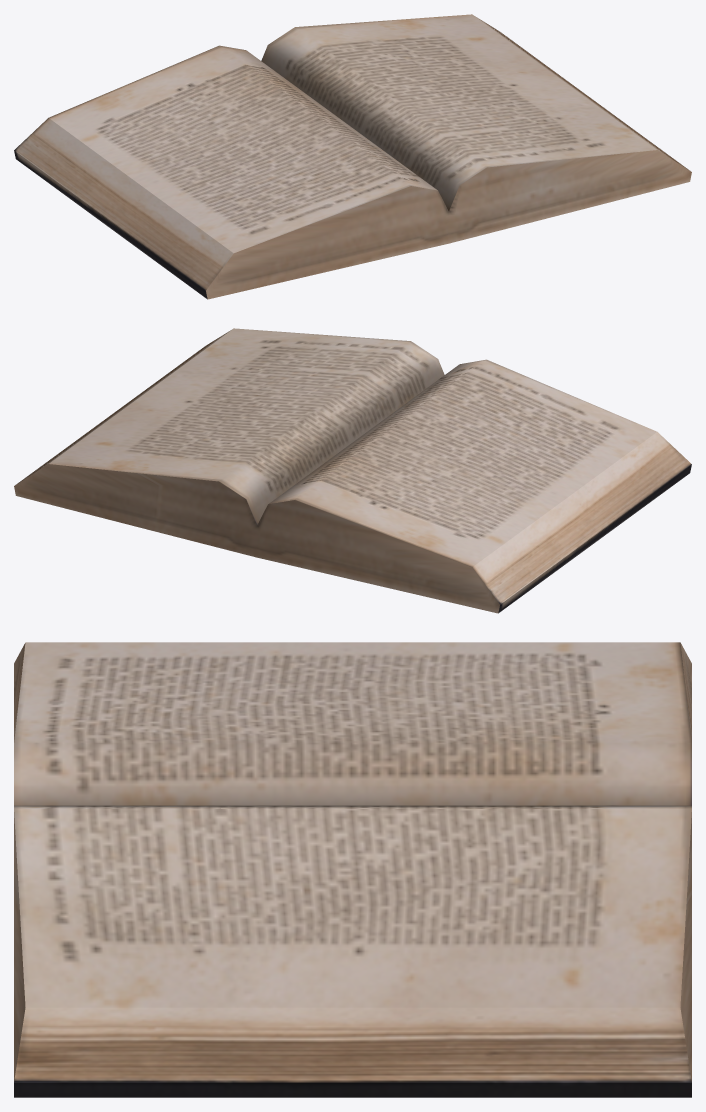
File: Prop_Sm_BookOpen_1_A.fbx
The picture shows the model from 3 angles, top to bottom: view 1: azimuth 30°, elevation 25°; view 2: azimuth 150°, elevation 25°; view 3: azimuth 270°, elevation 25°; orthographic projection. The views are drawn at different scales.
Parts seen in each view (by area): view 1: Tomb_2_low_1:polySurface26; view 2: Tomb_2_low_1:polySurface26; view 3: Tomb_2_low_1:polySurface26.
Boxes of the visible parts, bbox=[...] form: Tomb_2_low_1:polySurface26: bbox=[14, 14, 691, 299]; Tomb_2_low_1:polySurface26: bbox=[14, 328, 691, 613]; Tomb_2_low_1:polySurface26: bbox=[14, 642, 691, 1097].
Bounding box in the file's own units: 0.4618 × 0.0607 × 0.3156.
